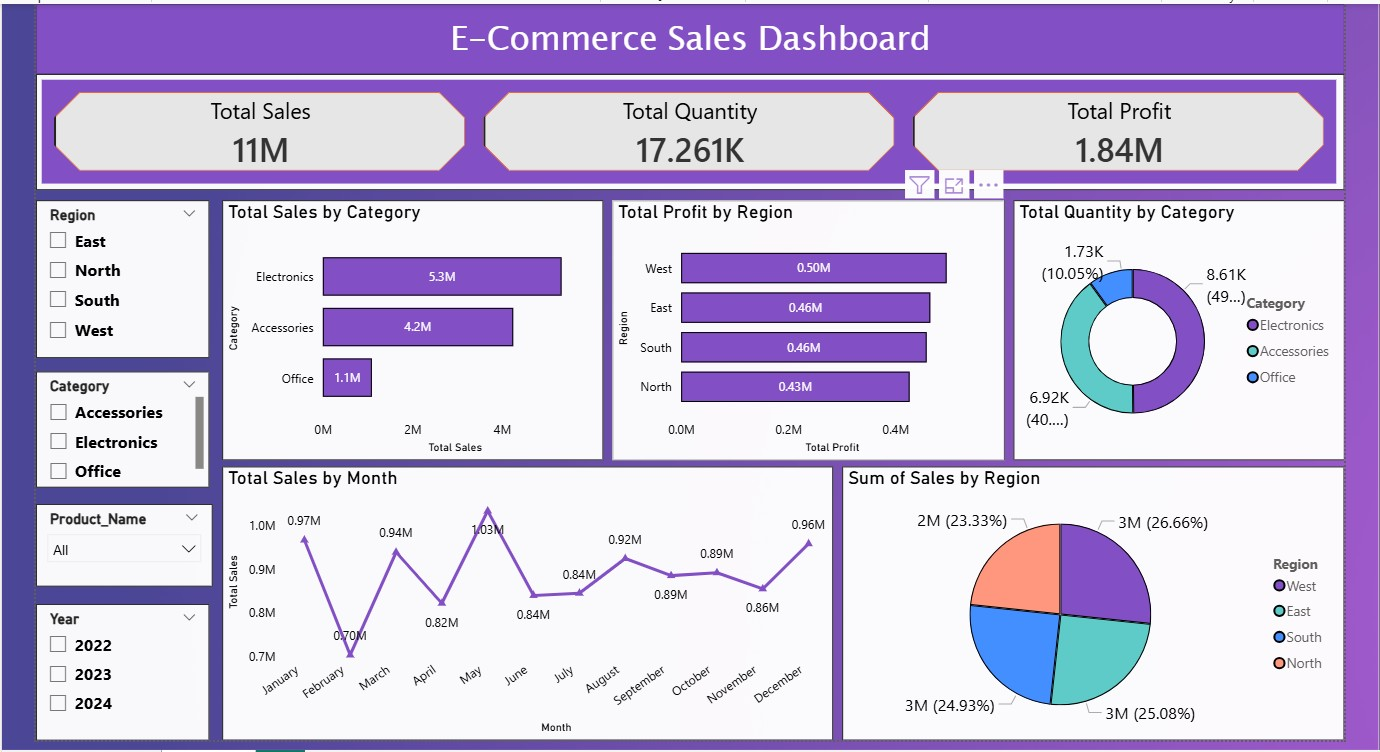

Layout of this report page (visuals, bound fields, positions):
{"tool":"powerbi","page":{"name":"Page 1","canvas":[1280,720],"ordinal":0},"visuals":[{"type":"shape","box":[0,0,1280.3,68.6],"z":0},{"type":"cardVisual","fields":{"Data":["Cleaned_data_Ecommerce_sales.Total Sales","Cleaned_data_Ecommerce_sales.Total Quantity","Cleaned_data_Ecommerce_sales.Total Profit"]},"box":[0,68.5,1280.3,113.7],"z":1000},{"type":"barChart","fields":{"Category":["Cleaned_data_Ecommerce_sales.Category"],"Y":["Cleaned_data_Ecommerce_sales.Total Sales"]},"box":[182.2,192,373,254.3],"z":2000},{"type":"barChart","fields":{"Category":["Cleaned_data_Ecommerce_sales.Region"],"Y":["Cleaned_data_Ecommerce_sales.Total Profit"]},"box":[563.7,192,384,254.3],"z":3000},{"type":"lineChart","fields":{"Category":["Cleaned_data_Ecommerce_sales.Order_Date.Variation.Date Hierarchy.Month"],"Y":["Cleaned_data_Ecommerce_sales.Total Sales"]},"box":[182.2,452.4,598,267.8],"z":4000},{"type":"slicer","fields":{"Values":["Cleaned_data_Ecommerce_sales.Order_Date.Variation.Date Hierarchy.Year"]},"box":[0,587,170,133.3],"z":5000},{"type":"slicer","fields":{"Values":["Cleaned_data_Ecommerce_sales.Category"]},"box":[0,359.5,170,113.7],"z":6000},{"type":"donutChart","fields":{"Category":["Cleaned_data_Ecommerce_sales.Category"],"Y":["Cleaned_data_Ecommerce_sales.Total Quantity"]},"box":[956.3,192,324.1,254.3],"z":7000},{"type":"pieChart","fields":{"Category":["Cleaned_data_Ecommerce_sales.Region"],"Y":["Sum(Cleaned_data_Ecommerce_sales.Sales)"]},"box":[788.7,452.4,491.6,267.8],"z":8000},{"type":"slicer","fields":{"Values":["Cleaned_data_Ecommerce_sales.Product_Name"]},"box":[0,489.1,172.4,80.7],"z":9000},{"type":"slicer","fields":{"Values":["Cleaned_data_Ecommerce_sales.Region"]},"box":[0,192,170,154.1],"z":10000}]}

Visuals, with their boxes in screenshot pixels (x1, y1, x2, y2):
shape: 29 0 1346 71
cardVisual - Cleaned_data_Ecommerce_sales.Total Sales x Cleaned_data_Ecommerce_sales.Total Quantity: 29 70 1346 187
barChart - Cleaned_data_Ecommerce_sales.Category x Cleaned_data_Ecommerce_sales.Total Sales: 216 198 600 459
barChart - Cleaned_data_Ecommerce_sales.Region x Cleaned_data_Ecommerce_sales.Total Profit: 609 198 1004 459
lineChart - Cleaned_data_Ecommerce_sales.Order_Date.Variation.Date Hierarchy.Month x Cleaned_data_Ecommerce_sales.Total Sales: 216 465 831 741
slicer - Cleaned_data_Ecommerce_sales.Order_Date.Variation.Date Hierarchy.Year: 29 604 204 741
slicer - Cleaned_data_Ecommerce_sales.Category: 29 370 204 487
donutChart - Cleaned_data_Ecommerce_sales.Category x Cleaned_data_Ecommerce_sales.Total Quantity: 1013 198 1346 459
pieChart - Cleaned_data_Ecommerce_sales.Region x Sum(Cleaned_data_Ecommerce_sales.Sales): 840 465 1346 741
slicer - Cleaned_data_Ecommerce_sales.Product_Name: 29 503 206 586
slicer - Cleaned_data_Ecommerce_sales.Region: 29 198 204 356
